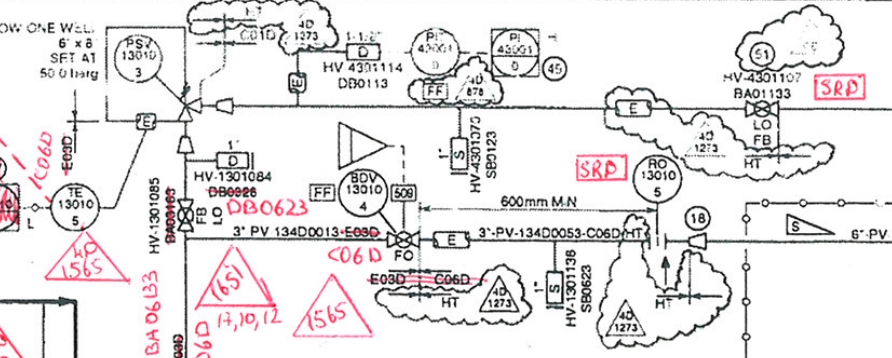Instrument: (405, 20, 462, 78), (628, 148, 684, 206), (334, 163, 389, 219), (112, 33, 167, 89), (50, 180, 104, 237)
Instrument-square: (478, 17, 550, 82)
